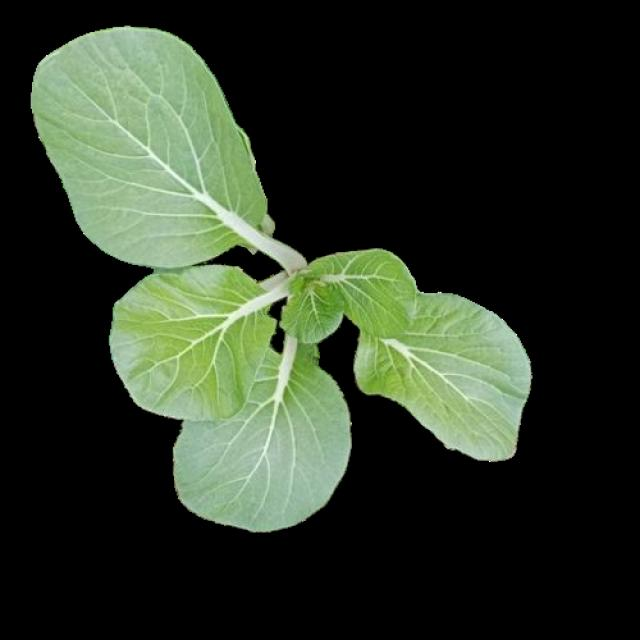healthy: (38, 45, 535, 548)
not-mature: (33, 30, 530, 532)
